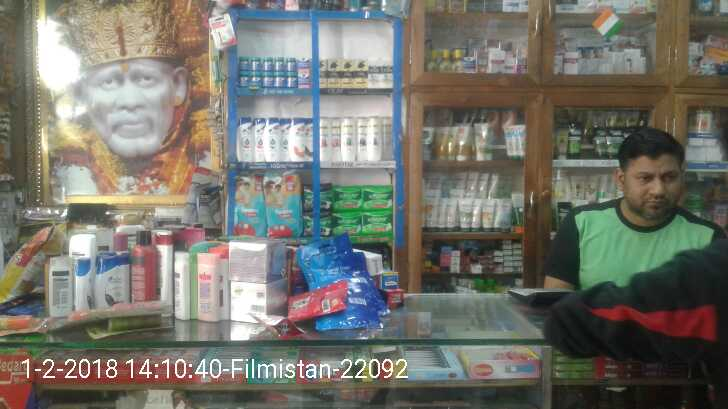vicks: (234, 50, 310, 90)
